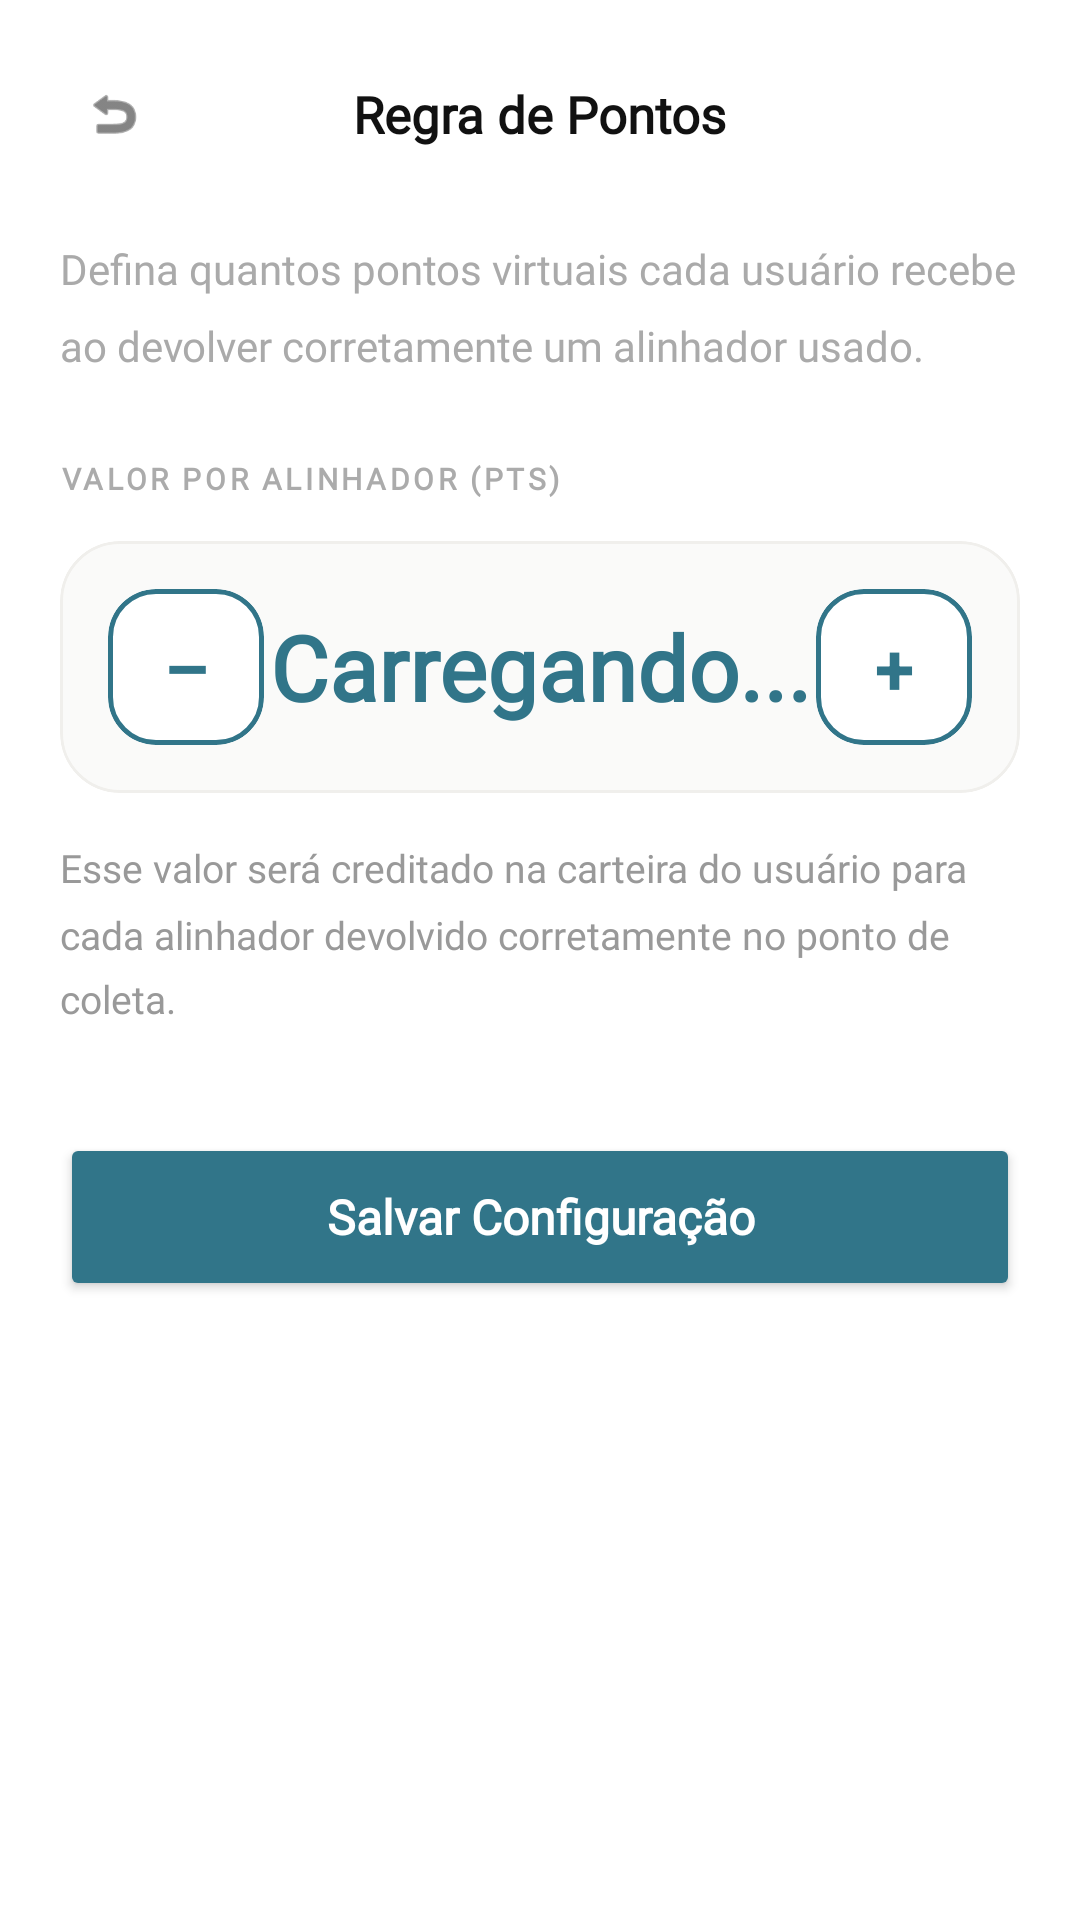

Locate icon controls on the screen. Image size 1080px x 1920px, boxes as [left=x1, top=y1, right=x2, bottom=y2].
revert: [left=93, top=95, right=136, bottom=134]
